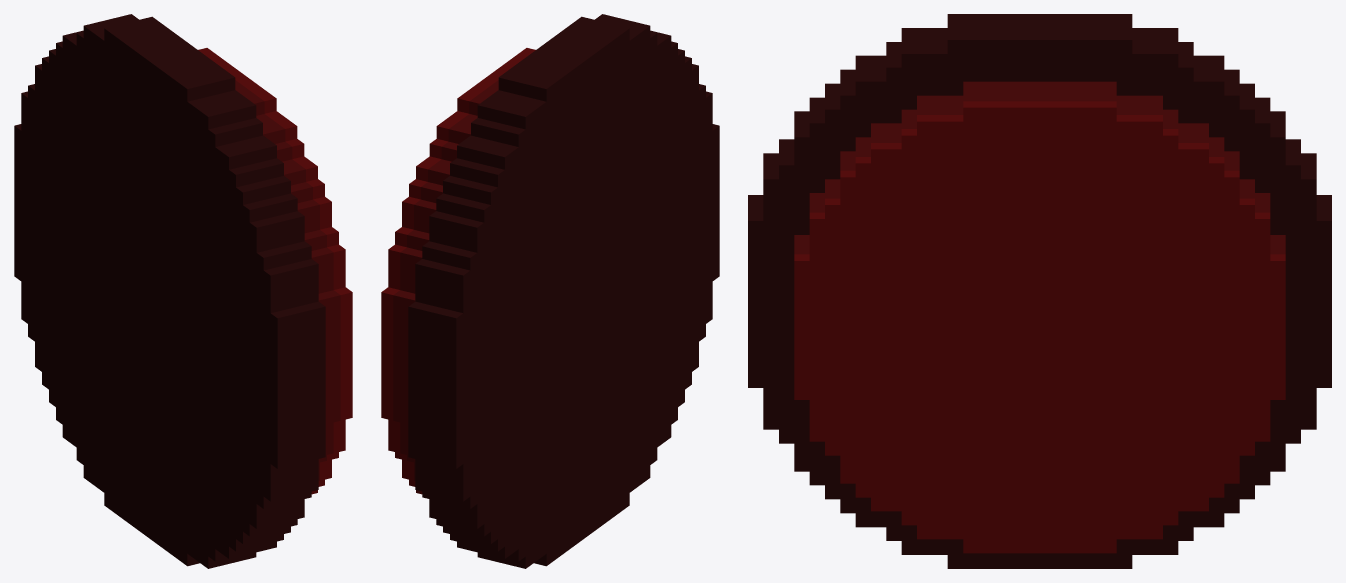
Rendered from Recorder_Stone.obj.
3 renders of one model, left to right at view 1: azimuth 30°, elevation 25°; view 2: azimuth 150°, elevation 25°; view 3: azimuth 270°, elevation 25°, orthographic. The views are drawn at different scales.
Bounding box in the file's own units: 0.8 × 3.8 × 3.8.
1 material, 1 textured.
